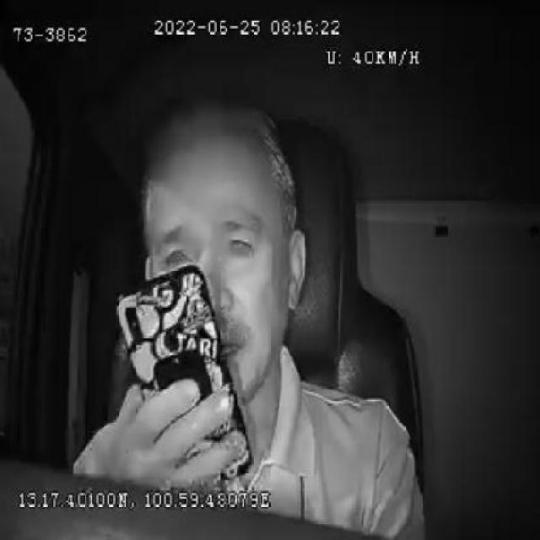phone: (117, 264, 254, 480)
